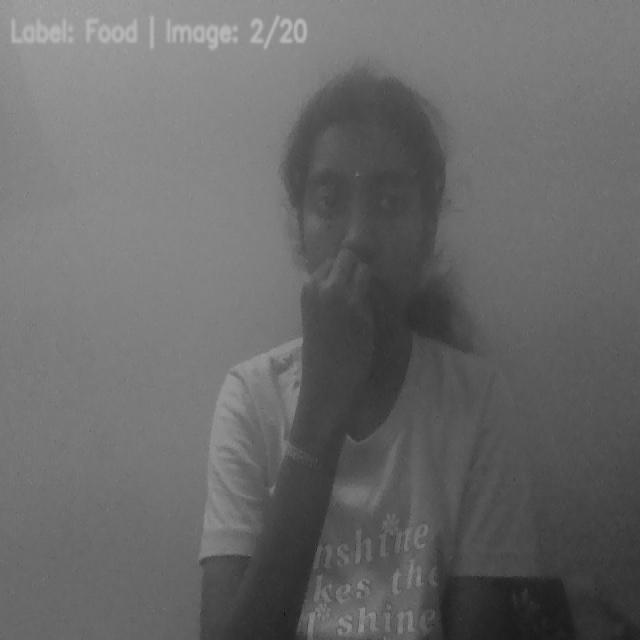Food: (284, 247, 392, 397)
